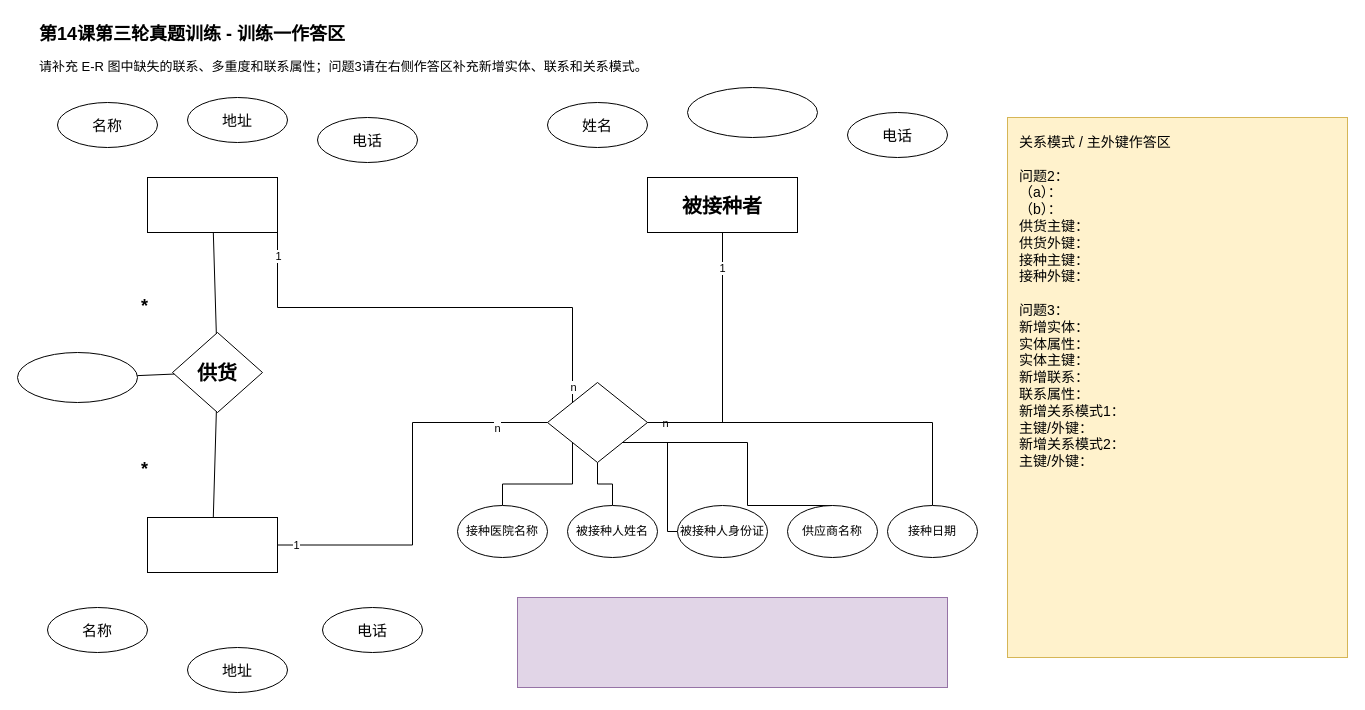
This 1365x710 diagram has some shape labels left out. The centre of each missing label's shape, as x and y in pixels:
"作图提示：本题已有“供货”联系；请重点补全“接种”的参与实体、多重度和联系属性。问题3需要新增实体与检测联系。" goes at (x=732, y=642).
"供应商" goes at (x=212, y=204).
"供货内容" goes at (x=77, y=377).
"医院" goes at (x=212, y=544).
"接种" goes at (x=597, y=422).
"身份证号" goes at (x=752, y=112).
